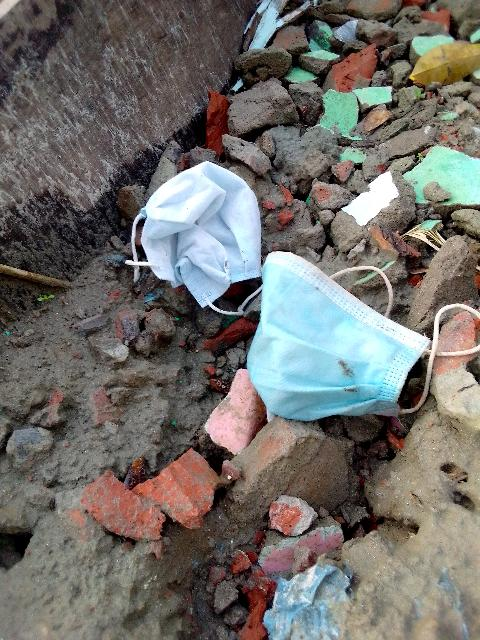mask: (262, 244, 414, 422), (119, 138, 246, 284)
